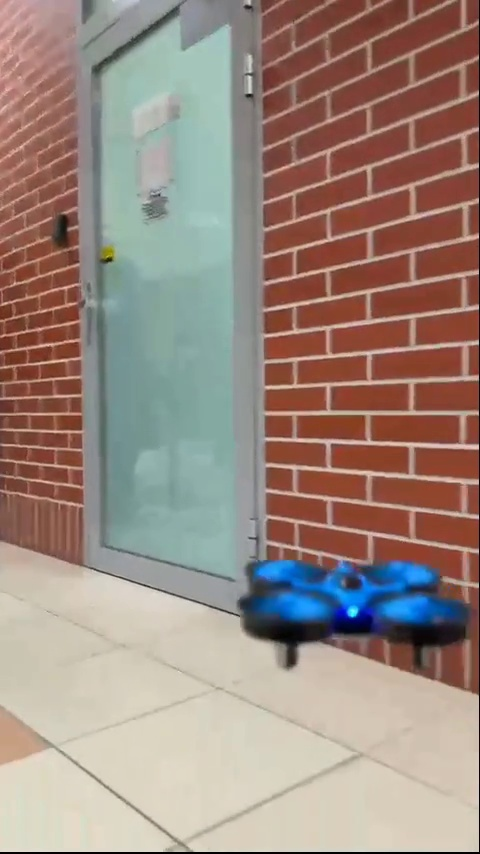drone: (246, 559, 469, 673)
